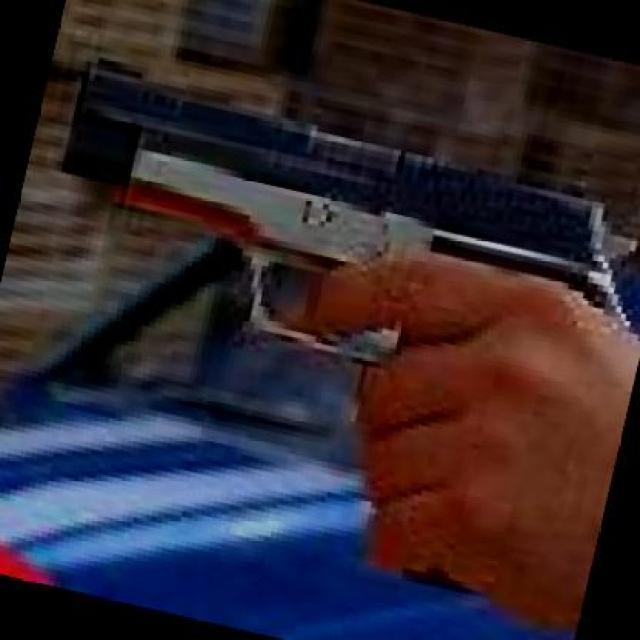rifle: (59, 43, 633, 343)
